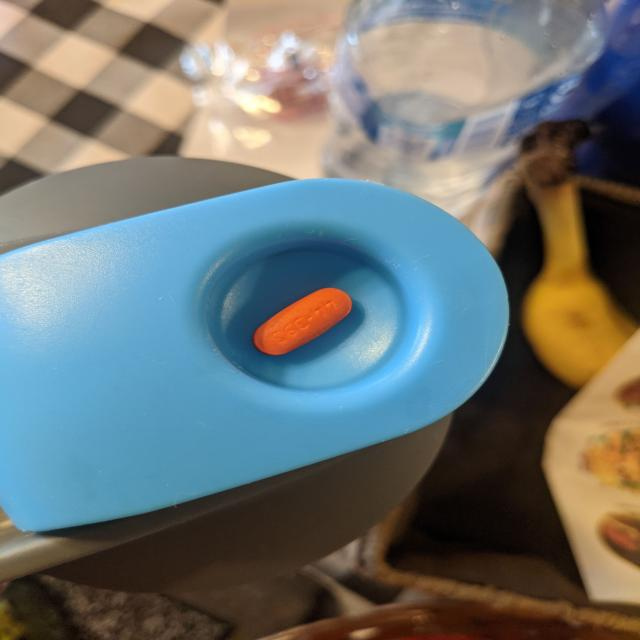non-organic waste: (251, 286, 354, 356)
